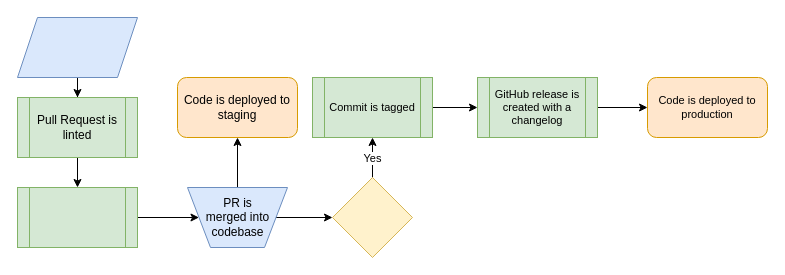
Image size: 785x275. Some labels were removed from this diagram. The centre of each missing label's shape, as x and y in pixels:
Code is built and tested: (x=77, y=217)
PR is created: (x=77, y=47)
Was the version updated?: (x=372, y=217)
